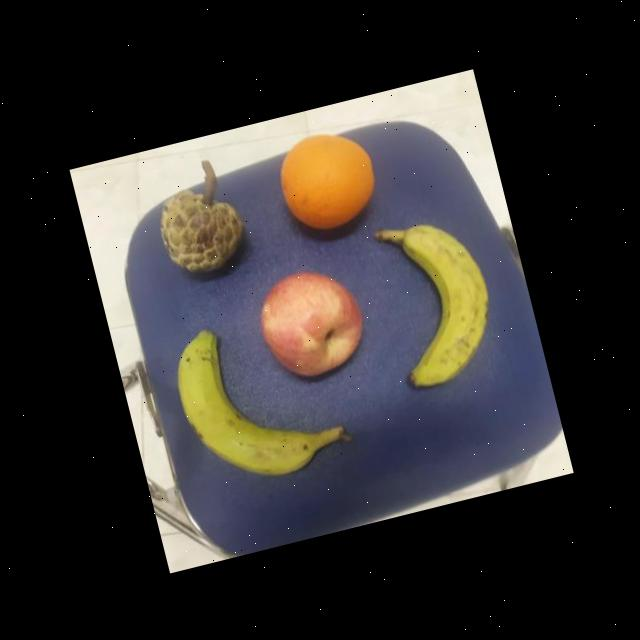Sakya fruit: (150, 176, 253, 284)
apple: (245, 255, 378, 398)
banana: (161, 299, 356, 495), (368, 203, 509, 397)
orange: (270, 122, 384, 238)
